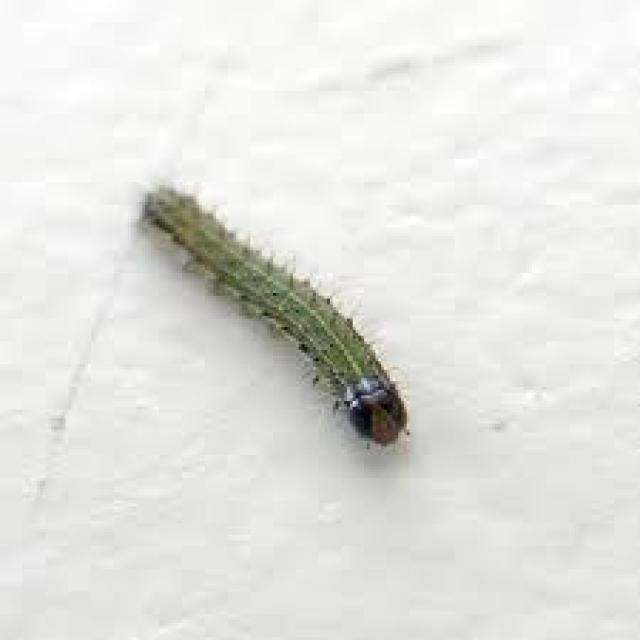Army Worm: (131, 173, 422, 457)
